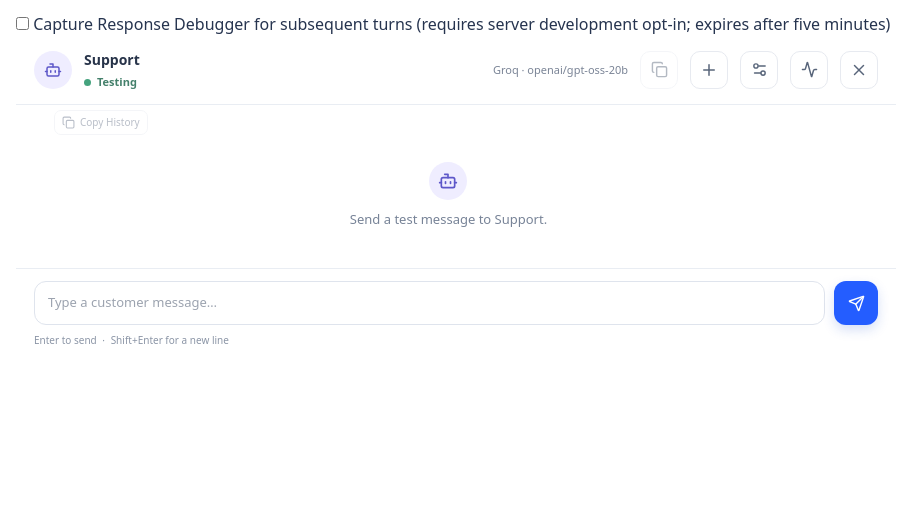
Test case: PlaygroundChat › renders trusted KNOWLEDGE_GROUNDED response provenance
In the text box named "Message your assistant": (430, 303) top-left (34, 281), bottom-right (825, 325), type "Please help"
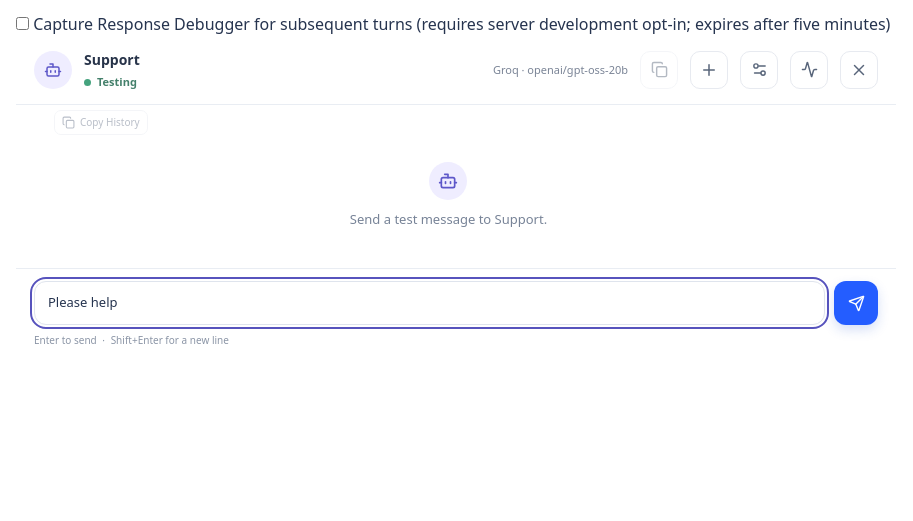
Click the button named "Send message": (856, 303) top-left (834, 281), bottom-right (878, 325)
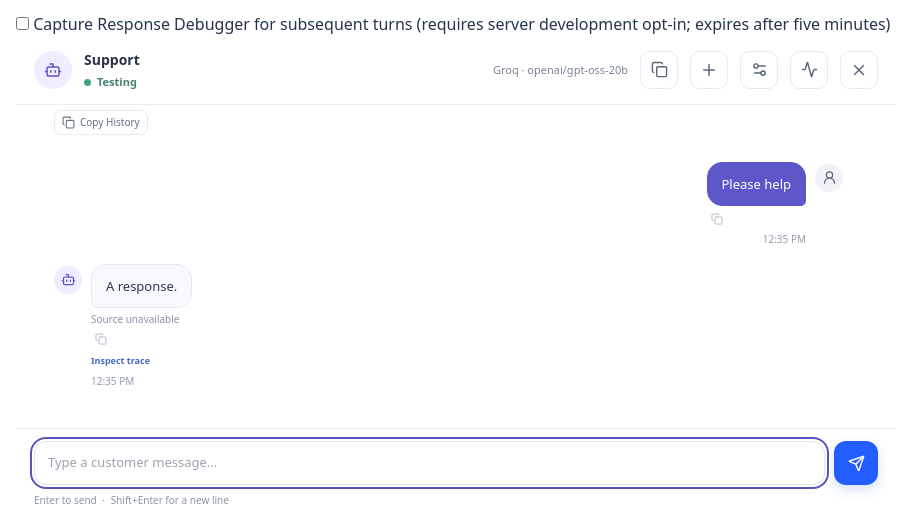
Expected: the text "Source unavailable" is shown, top-left (91, 313), bottom-right (180, 326)
